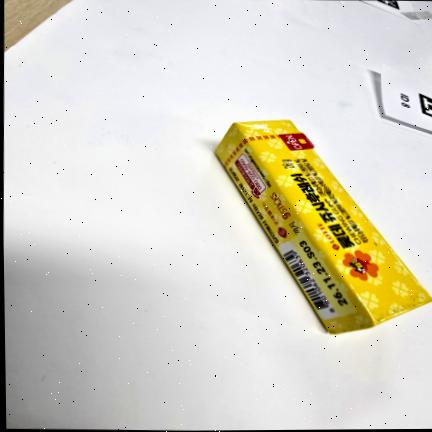gum_yellow: (215, 119, 431, 333)
